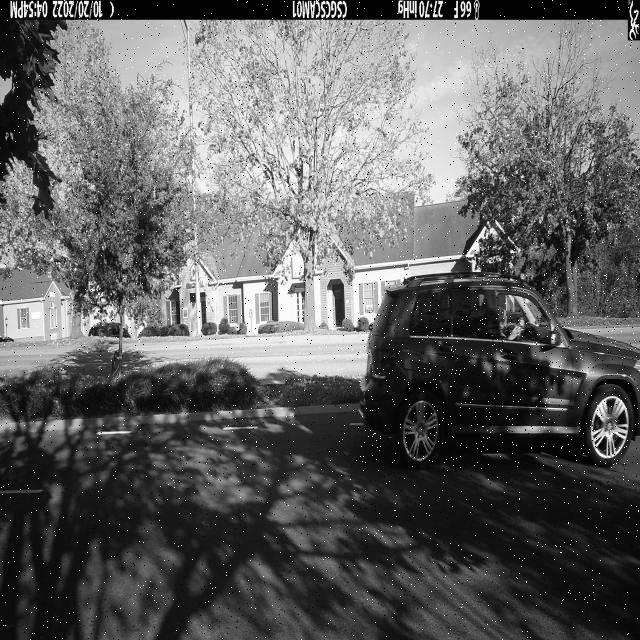SUV: (358, 272, 640, 468)
